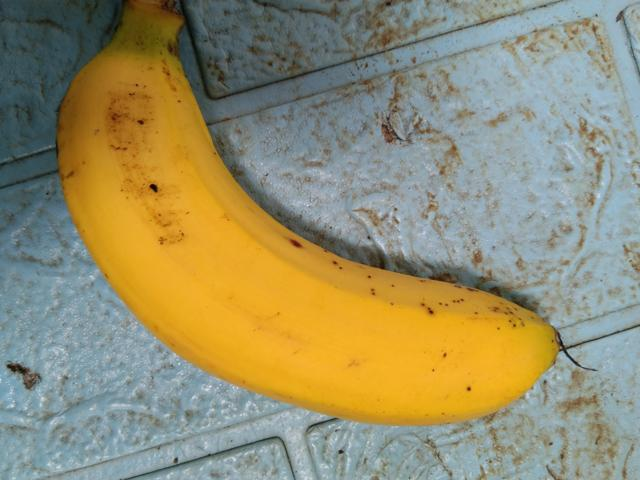freshripe: (41, 40, 575, 435)
